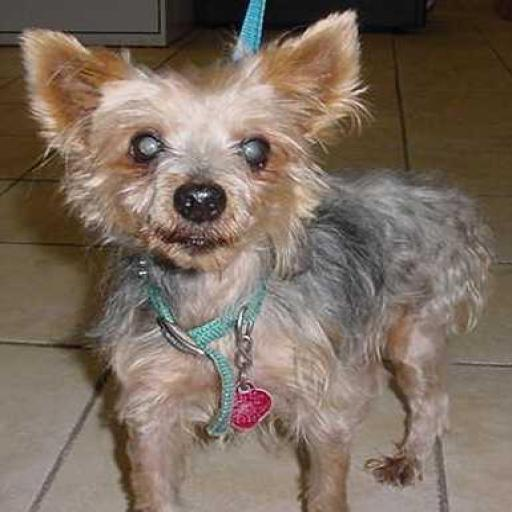dog_face: (23, 12, 359, 282)
